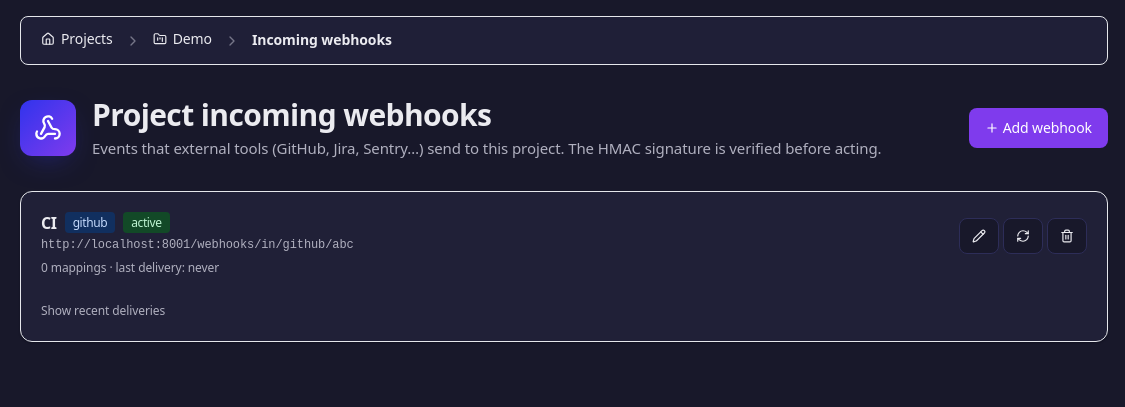
Test: projects/[id]/incoming-webhooks — webhooks entrantes › el panel de entregas —plegado por defecto— también se traduce
This screenshot has width=1125, height=407.
Click the button with test id "webhook-deliveries-toggle-wh-1" at {"x": 103, "y": 310}, box [41,302,165,319]
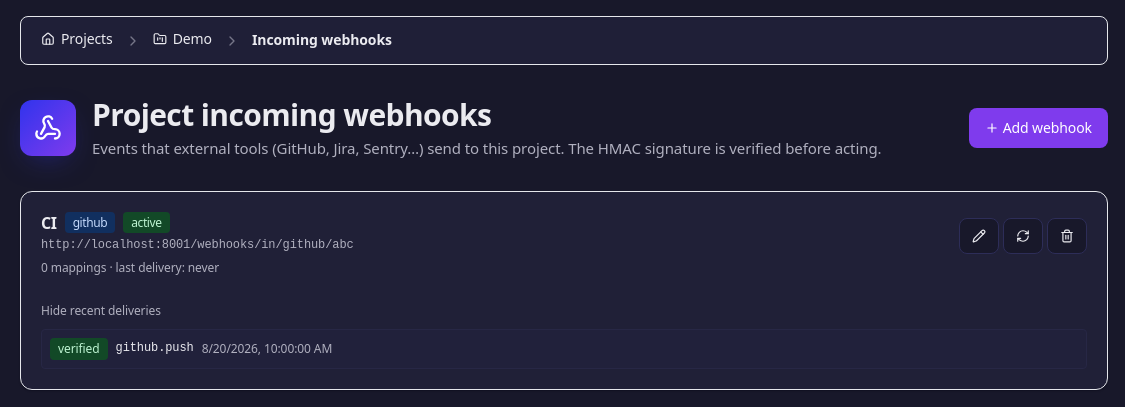
Expected: the list item with test id "webhook-delivery-dlv-1" shows "verified", [58,340,100,357]
Expected: the button with test id "webhook-deliveries-toggle-wh-1" reads "Hide recent deliveries", [41,302,161,319]
